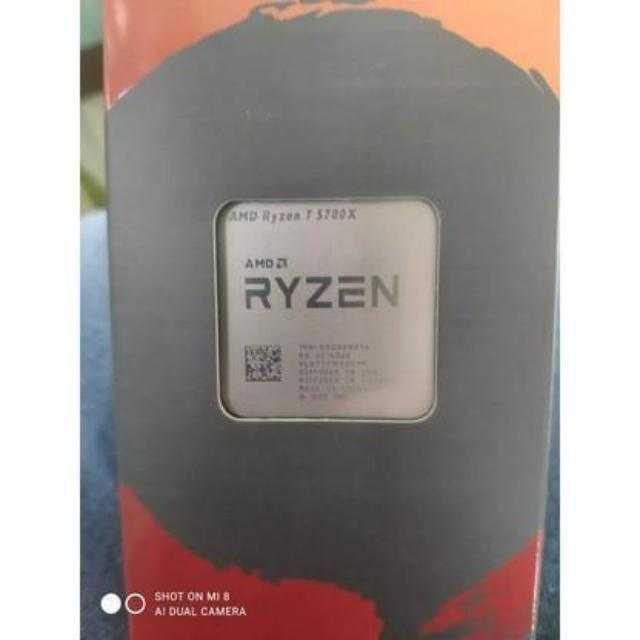CPU: (207, 192, 444, 428)
